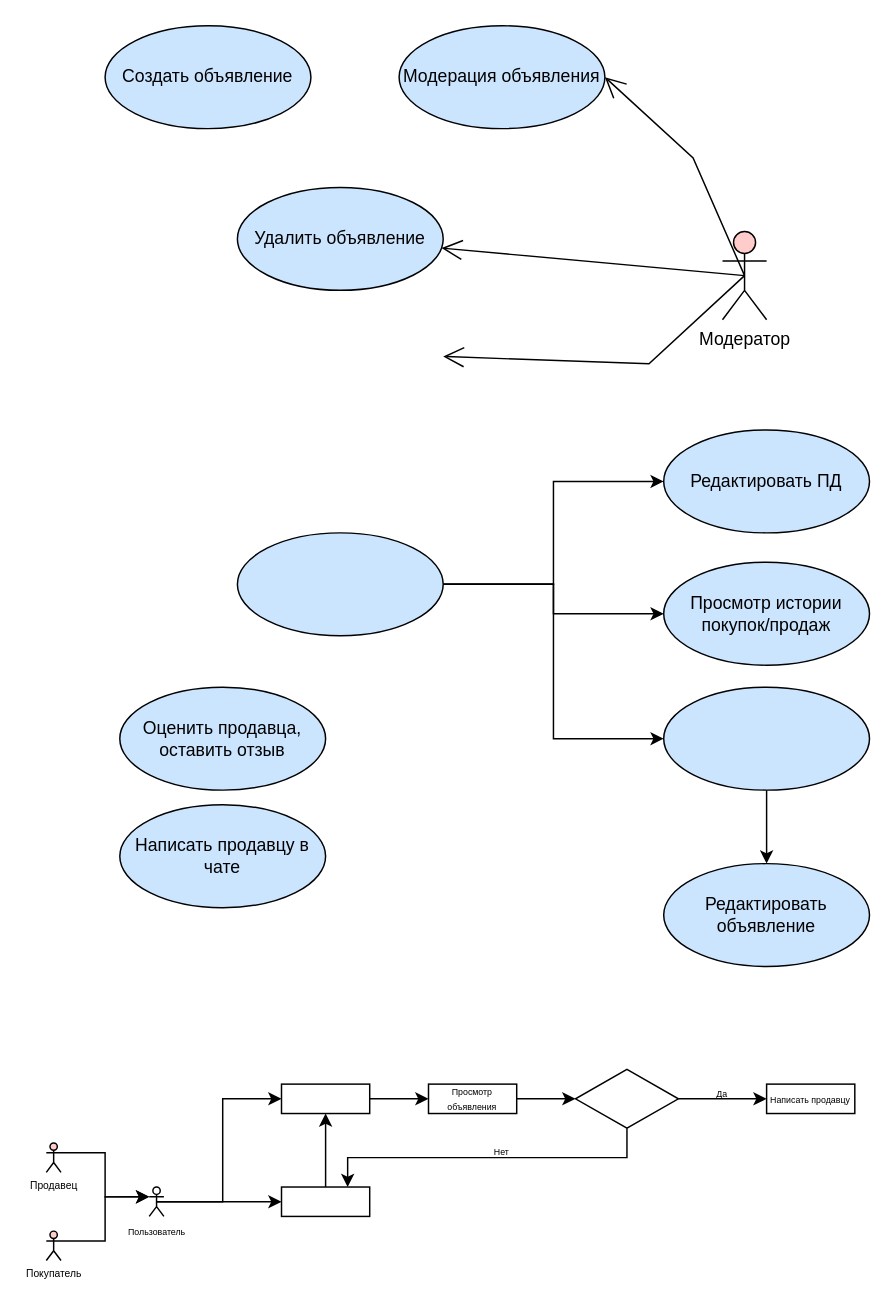
The diagram is 895 pixels wide and 1307 high, and some of its shapes have lost their labels. The shapes that lost their labels are listed below. From the top down, each one's centre as x and y in pixels, then its label:
At [339,583]: "Работа с ЛК".
At [766,738]: "Просмотр созданных объявлений".
At [325,1098]: "Поиск объявления".
At [626,1098]: "Пользватель авторизован?".
At [325,1201]: "Регистрация/авторизация".
